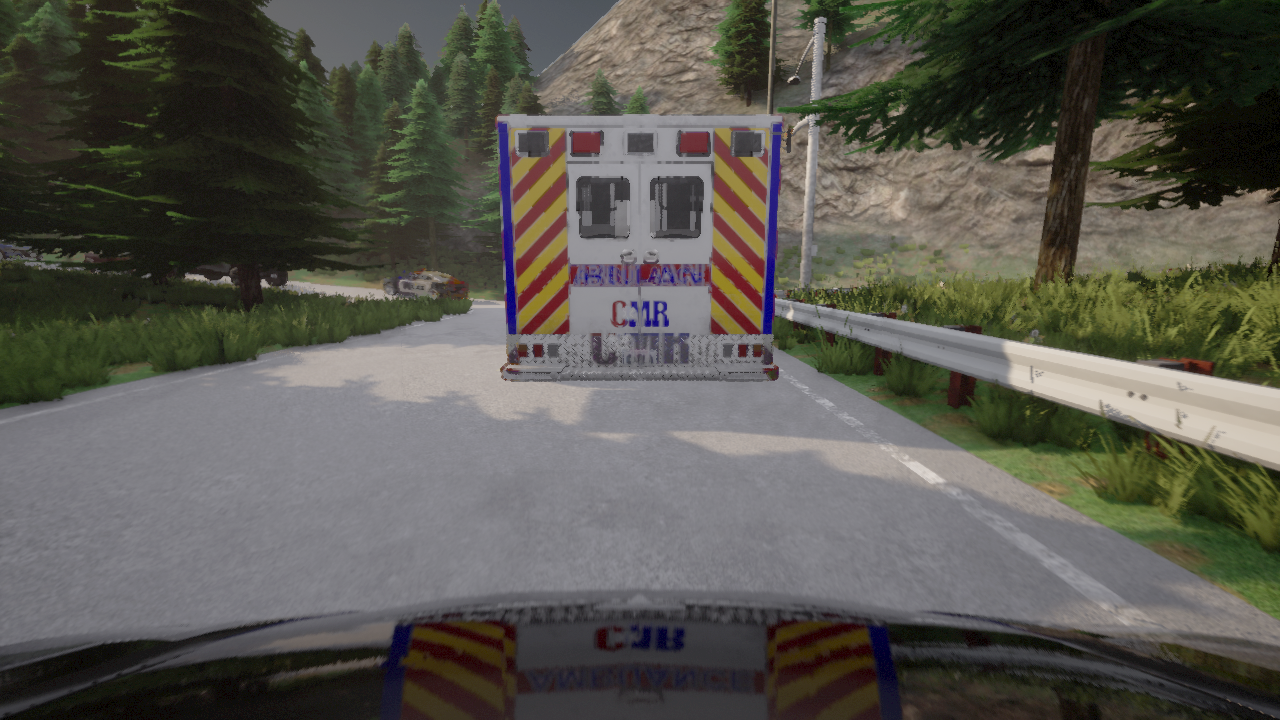cyclist: (0, 588, 1279, 719), (497, 115, 783, 380), (167, 261, 287, 286), (383, 268, 468, 299), (83, 250, 136, 275), (0, 239, 42, 257), (260, 278, 262, 280)
